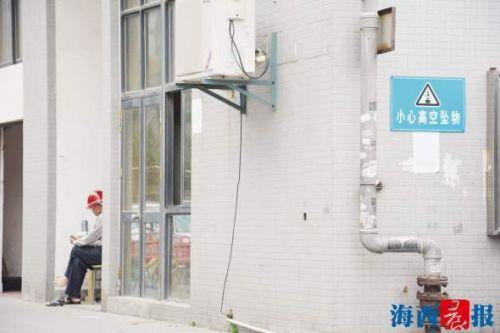helmet: (88, 194, 105, 210)
